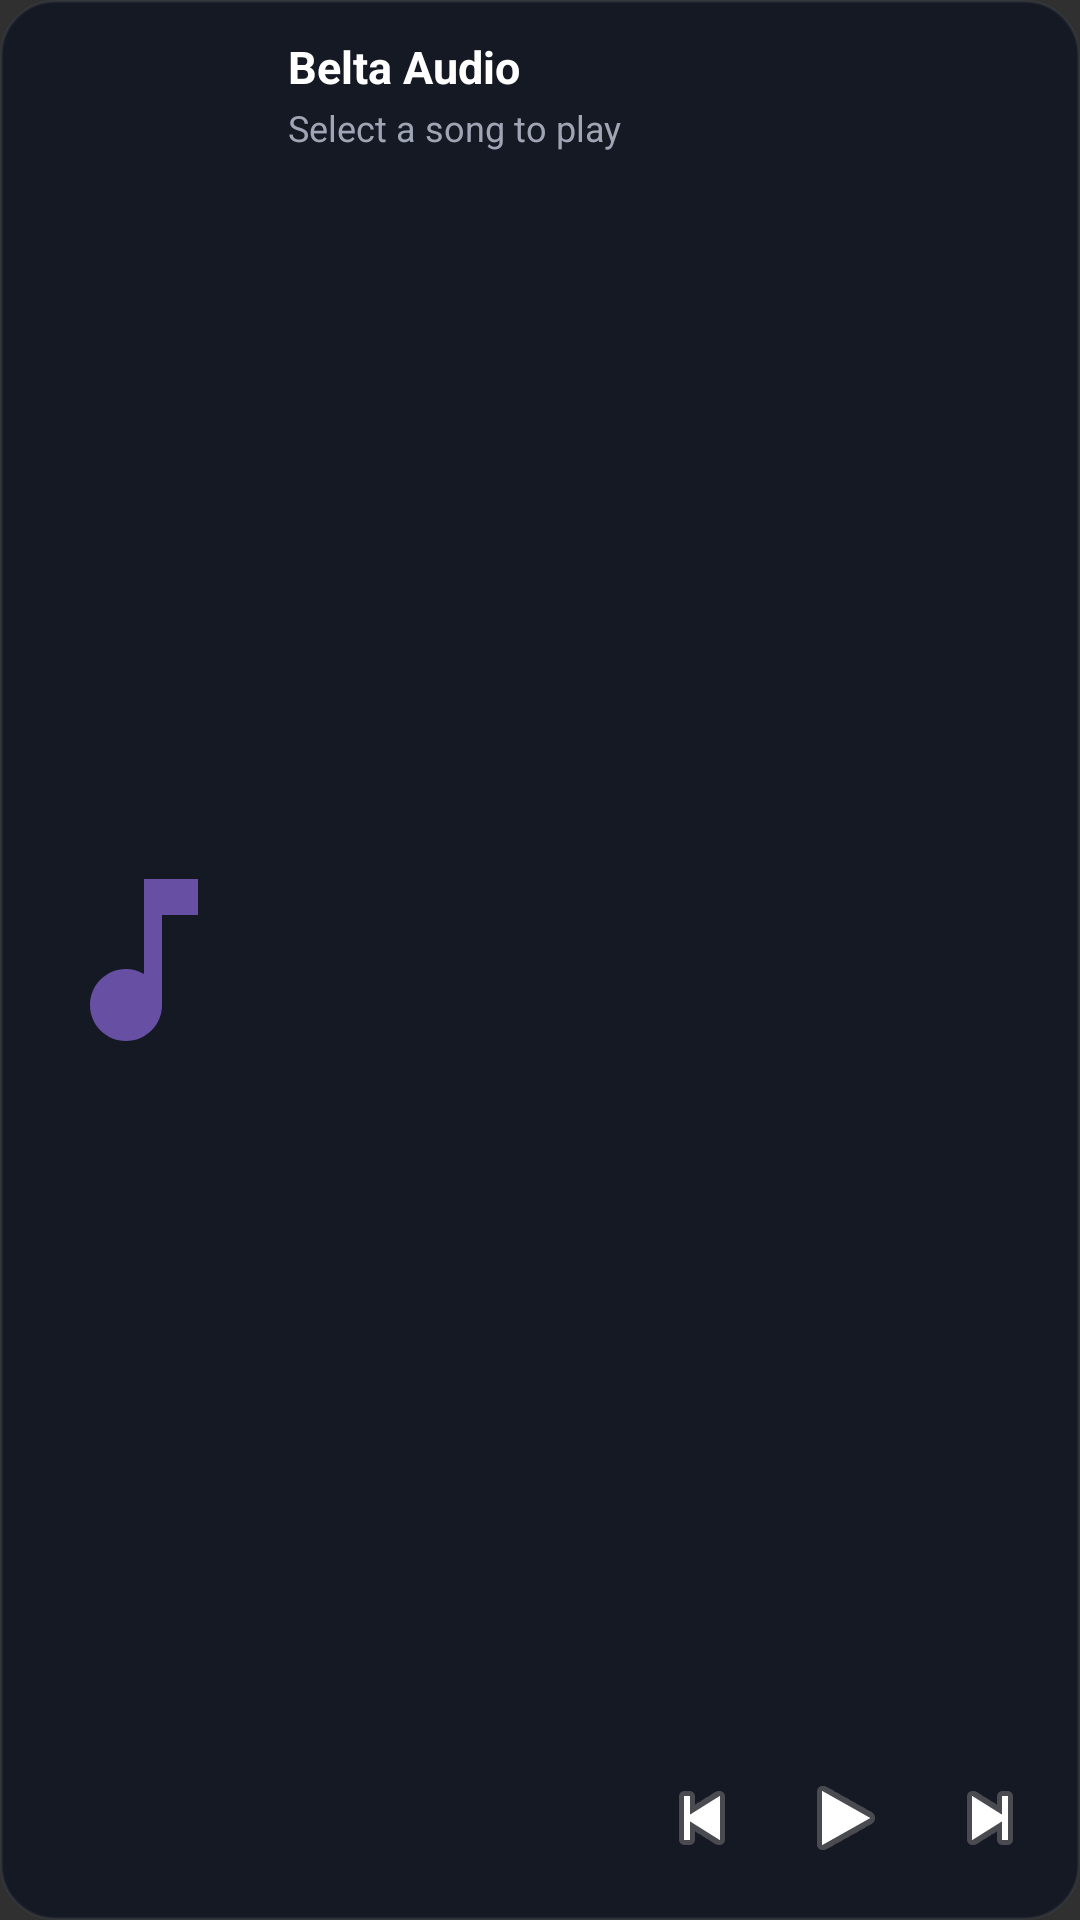

Where to tap for icons on this 1080px×1920px app screen, as (x=x, y=y):
art: (x=144, y=960)
Next: (x=990, y=1818)
Play/Pause: (x=846, y=1818)
Previous: (x=702, y=1818)
